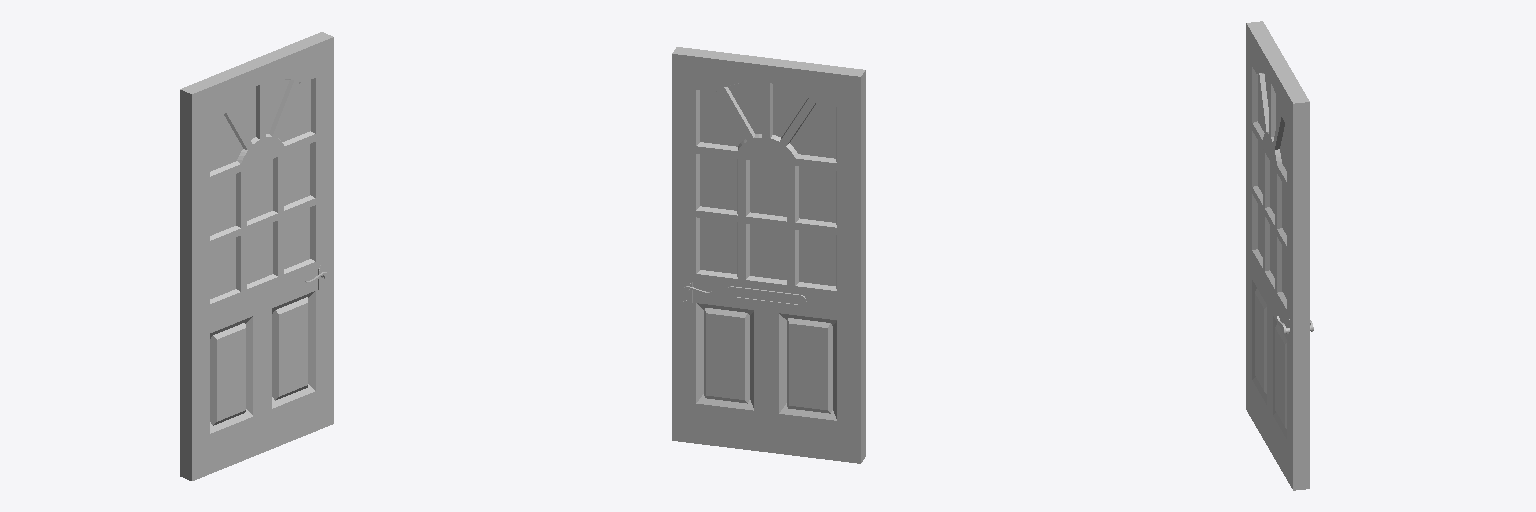
The model's file is door2_000006.obj.
3 renders of one model, left to right at view 1: azimuth 30°, elevation 25°; view 2: azimuth 150°, elevation 25°; view 3: azimuth 270°, elevation 25°, orthographic.
Parts seen in each view (by area): view 1: Door.000_Door.004; view 2: Door.000_Door.004; view 3: Door.000_Door.004.
Part boxes in pixels (left/top/right/bottom): Door.000_Door.004: left=180, top=32, right=333, bottom=480; Door.000_Door.004: left=672, top=47, right=865, bottom=463; Door.000_Door.004: left=1246, top=21, right=1313, bottom=490.
Size of the model in its own units: 0.7336 by 1.6 by 0.2532.